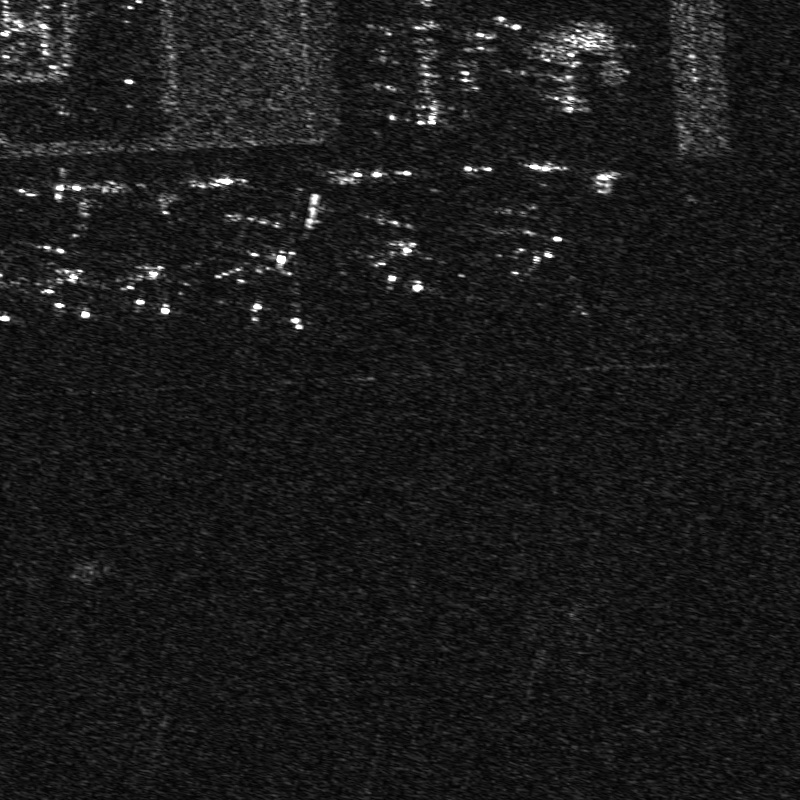Boeing737: (370, 216, 446, 295), (496, 209, 571, 273), (30, 263, 106, 324), (120, 259, 192, 316)
other: (213, 236, 347, 331)
